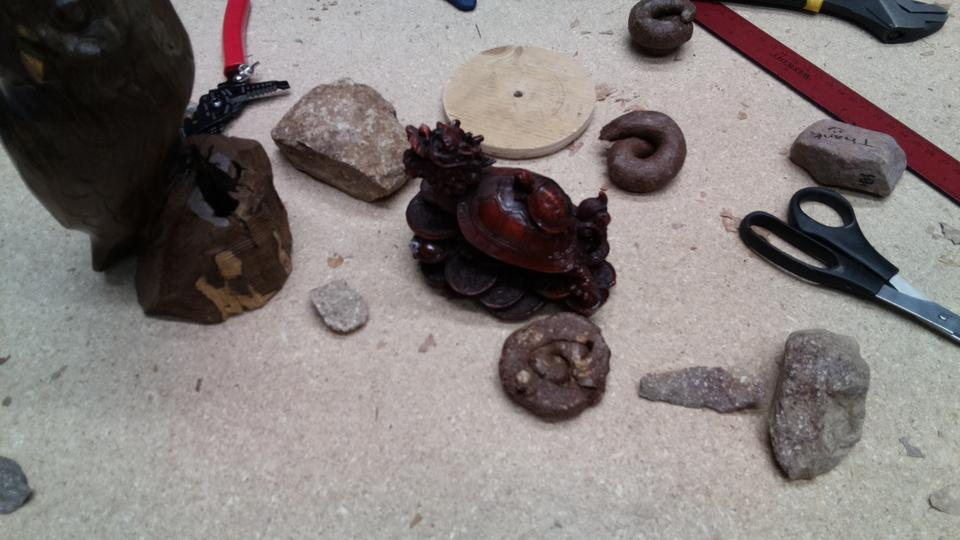poop: (496, 308, 616, 425), (597, 103, 689, 199), (624, 1, 700, 61)
